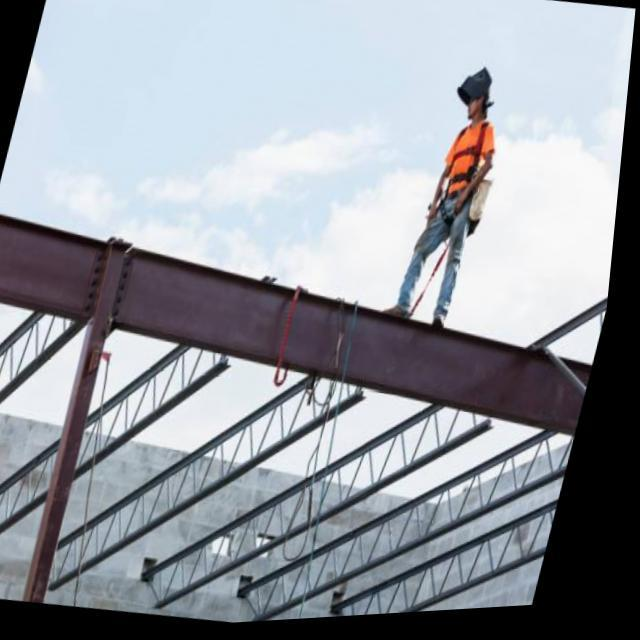belt: (434, 120, 495, 238)
